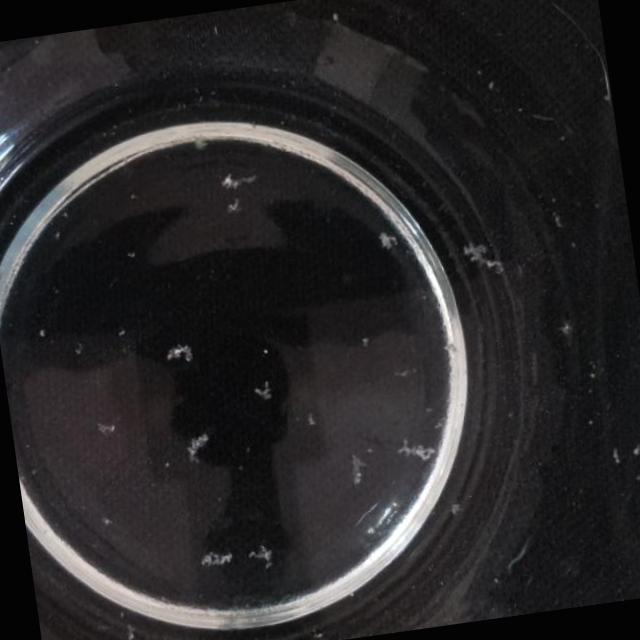fiber: (345, 444, 378, 500), (460, 233, 501, 276), (242, 537, 280, 578), (398, 431, 437, 468), (249, 375, 282, 412), (372, 220, 402, 259), (219, 165, 254, 191), (194, 548, 237, 566), (185, 429, 208, 462), (164, 338, 194, 363), (447, 496, 471, 526), (97, 419, 120, 448), (119, 617, 146, 640), (226, 194, 244, 217), (630, 422, 640, 461), (560, 320, 579, 340)
